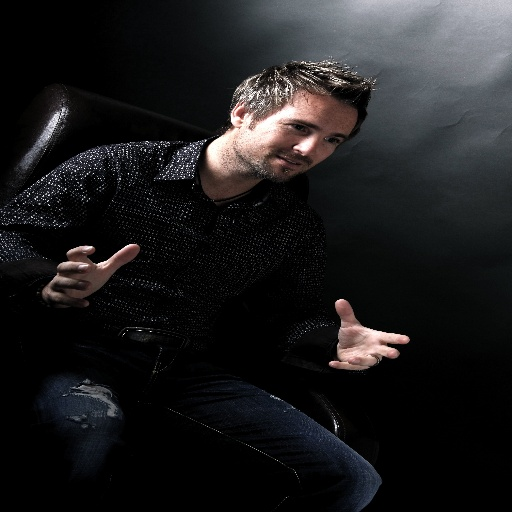hand: (319, 300, 406, 385), (37, 240, 141, 310)
